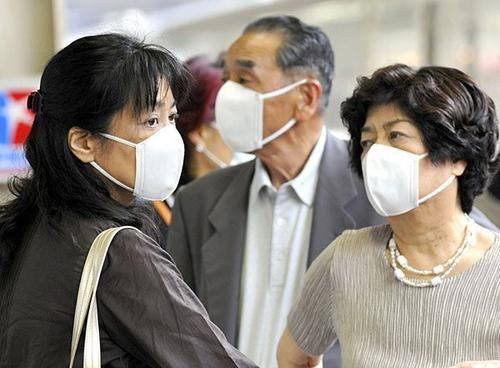mask: (70, 121, 185, 204), (354, 137, 445, 219), (216, 79, 285, 159)
